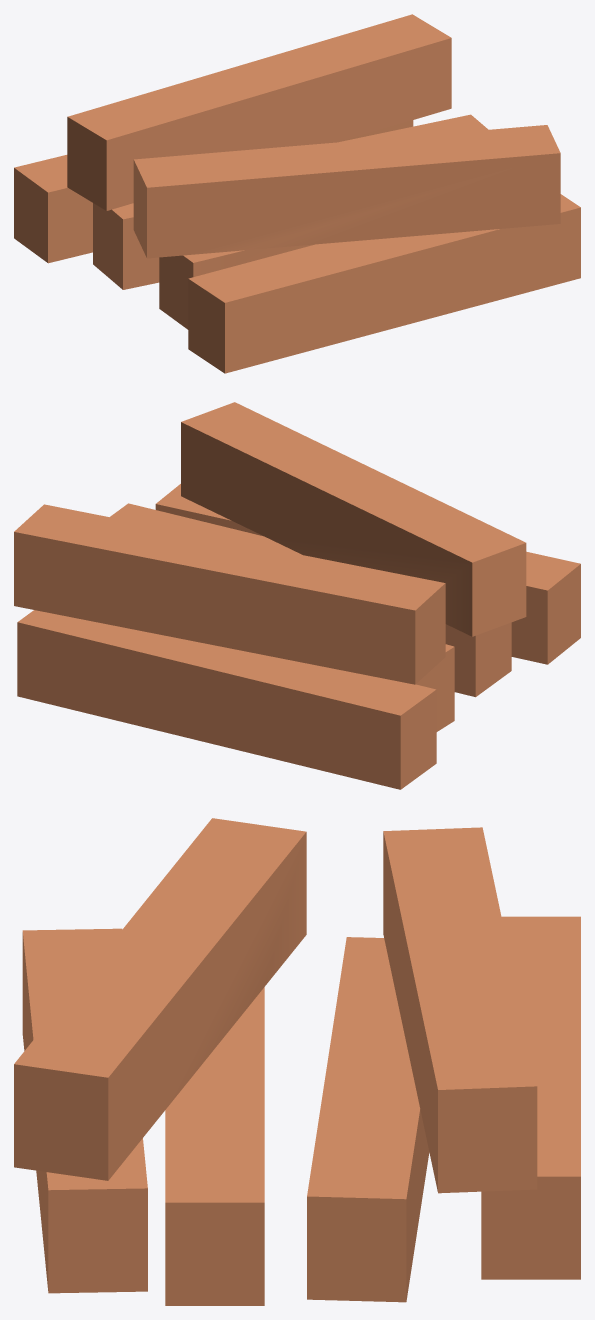
The model's file is Brasero_plan.fbx.
3 views of the same model, one above another, from view 1: azimuth 30°, elevation 25°; view 2: azimuth 150°, elevation 25°; view 3: azimuth 270°, elevation 25° (orthographic). The views are drawn at different scales.
Visible parts, largest first — view 1: debris_wood_356; view 2: debris_wood_356; view 3: debris_wood_356.
Part boxes in pixels (x1,y1,x2,y2): debris_wood_356: [14, 14, 580, 373]; debris_wood_356: [14, 402, 580, 789]; debris_wood_356: [14, 818, 580, 1305].
Size of the model in its own units: 9.52 by 3.2 by 7.97.
